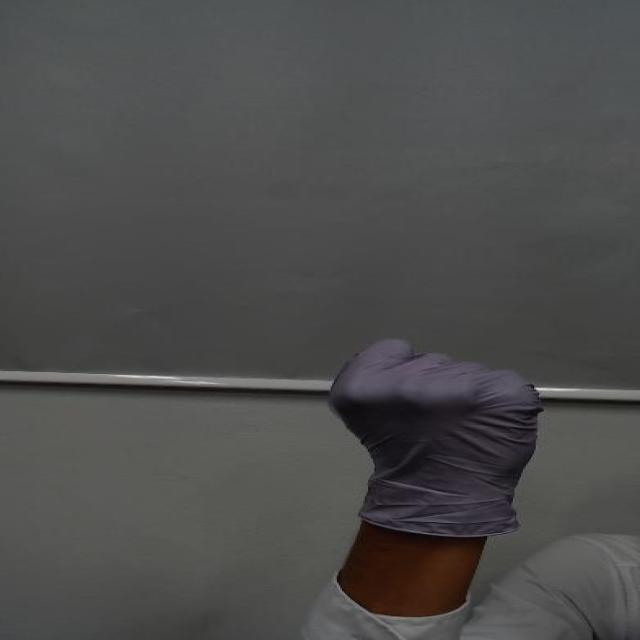glove: (314, 325, 562, 476)
